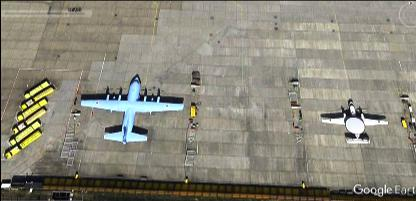Be200: (80, 76, 182, 143)
C5: (320, 101, 388, 143)
